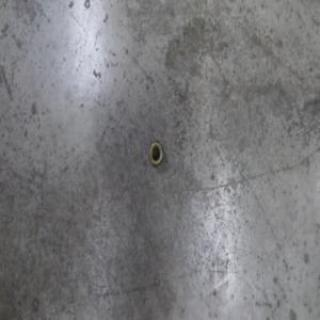Nuttrack_idkeyframe: (148, 137, 163, 167)
